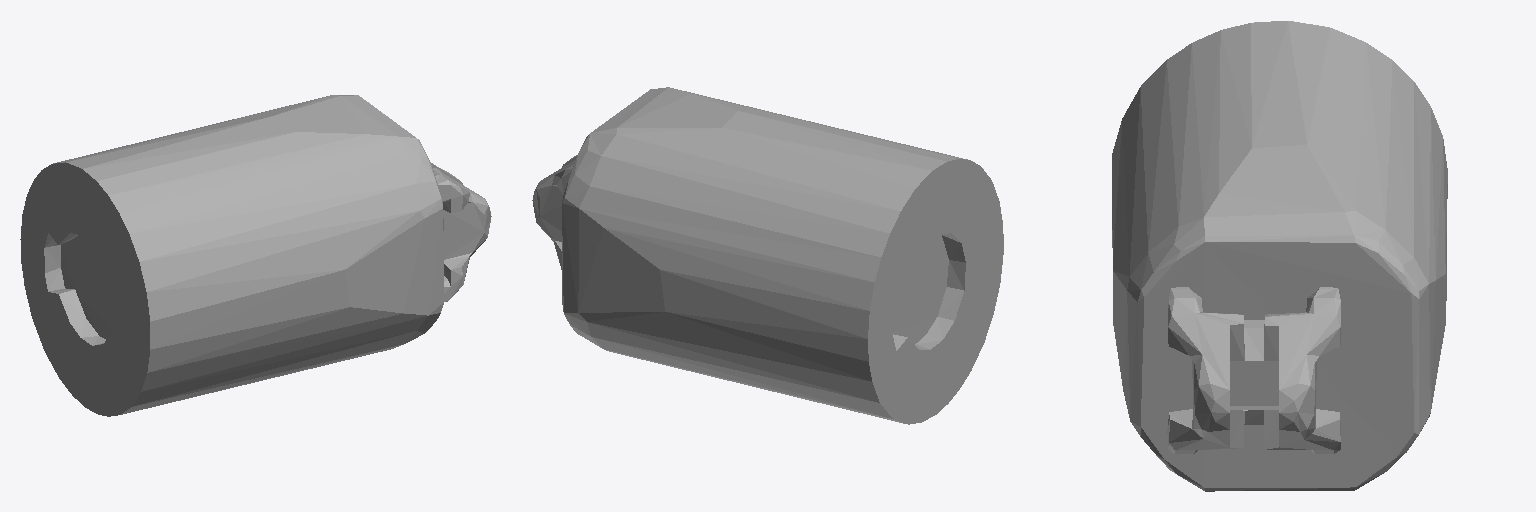
--- Facts derived from the render (not from the file) ---
3 views of the same robot in one strip: view 1: azimuth 30°, elevation 25°; view 2: azimuth 150°, elevation 25°; view 3: azimuth 270°, elevation 25° (orthographic).
Robot: ur10srh — 43 links, 42 joints (30 revolute, 12 fixed); root link world; default pose: all joints at 0.
Links seen in each view (by area): view 1: ra_forearm_link; view 2: ra_forearm_link; view 3: ra_forearm_link.
Link boxes in pixels (x1=…): ra_forearm_link: x1=20, y1=95, x2=491, y2=416; ra_forearm_link: x1=532, y1=87, x2=1003, y2=424; ra_forearm_link: x1=1112, y1=21, x2=1447, y2=491.
Bounding box of the posed robot: 2.28 × 1.35 × 1.35 m (x, y, z).
Meshes: 19 distinct files referenced, 25 mesh visuals loaded (1 binary STL, 11 Collada DAE); not drawn: 6 (reference not matched to a file when rendering).

The robot description file, URDF, robot "ur10srh":
<?xml version="1.0" ?>
<!-- =================================================================================== -->
<!-- |    This document was autogenerated by xacro from [local-path]/shadow/src/sr_interface/sr_multi_description/urdf/right_srhand_ur10.urdf.xacro | -->
<!-- |    EDITING THIS FILE BY HAND IS NOT RECOMMENDED                                 | -->
<!-- =================================================================================== -->
<robot name="ur10srh" xmlns:body="http://playerstage.sourceforge.net/gazebo/xmlschema/#body" xmlns:controller="http://playerstage.sourceforge.net/gazebo/xmlschema/#controller" xmlns:geom="http://playerstage.sourceforge.net/gazebo/xmlschema/#geom" xmlns:interface="http://playerstage.sourceforge.net/gazebo/xmlschema/#interface" xmlns:joint="http://playerstage.sourceforge.net/gazebo/xmlschema/#slider" xmlns:sensor="http://playerstage.sourceforge.net/gazebo/xmlschema/#sensor">
  <link name="world"/>
  <joint name="world_joint" type="fixed">
    <parent link="world"/>
    <child link="ra_base_link"/>
    <origin rpy="0.0 0.0 0.0" xyz="0.0 0.0 0.1"/>
  </joint>
  <link name="ra_base_link">
    <visual>
      <origin rpy="0 0 3.14159265359" xyz="0 0 0"/>
      <geometry>
        <mesh filename="package://ur_description/meshes/ur10/visual/base.dae"/>
      </geometry>
      <material name="LightGrey">
        <color rgba="0.7 0.7 0.7 1.0"/>
      </material>
    </visual>
    <collision>
      <origin rpy="0 0 3.14159265359" xyz="0 0 0"/>
      <geometry>
        <mesh filename="package://ur_description/meshes/ur10/collision/base.stl"/>
      </geometry>
    </collision>
    <inertial>
      <mass value="4.0"/>
      <origin rpy="0 0 0" xyz="0.0 0.0 0.0"/>
      <inertia ixx="0.0061063308908" ixy="0.0" ixz="0.0" iyy="0.0061063308908" iyz="0.0" izz="0.01125"/>
    </inertial>
  </link>
  <joint name="ra_shoulder_pan_joint" type="revolute">
    <parent link="ra_base_link"/>
    <child link="ra_shoulder_link"/>
    <origin rpy="0 0 3.14159265359" xyz="0 0 0.1273"/>
    <axis xyz="0 0 1"/>
    <limit effort="330.0" lower="-6.28318530718" upper="6.28318530718" velocity="2.16"/>
    <dynamics damping="0.0" friction="0.0"/>
  </joint>
  <link name="ra_shoulder_link">
    <visual>
      <origin rpy="0 0 3.14159265359" xyz="0 0 0"/>
      <geometry>
        <mesh filename="package://ur_description/meshes/ur10/visual/shoulder.dae"/>
      </geometry>
      <material name="LightGrey">
        <color rgba="0.7 0.7 0.7 1.0"/>
      </material>
    </visual>
    <collision>
      <origin rpy="0 0 3.14159265359" xyz="0 0 0"/>
      <geometry>
        <mesh filename="package://ur_description/meshes/ur10/collision/shoulder.stl"/>
      </geometry>
    </collision>
    <inertial>
      <mass value="7.778"/>
      <origin rpy="0 0 0" xyz="0.0 0.0 0.0"/>
      <inertia ixx="0.0314743125769" ixy="0.0" ixz="0.0" iyy="0.0314743125769" iyz="0.0" izz="0.021875625"/>
    </inertial>
  </link>
  <joint name="ra_shoulder_lift_joint" type="revolute">
    <parent link="ra_shoulder_link"/>
    <child link="ra_upper_arm_link"/>
    <origin rpy="1.570796327 0 0" xyz="0 0 0"/>
    <axis xyz="0 0 1"/>
    <limit effort="330.0" lower="-6.28318530718" upper="6.28318530718" velocity="2.16"/>
    <dynamics damping="0.0" friction="0.0"/>
  </joint>
  <link name="ra_upper_arm_link">
    <visual>
      <origin rpy="1.57079632679 0 -1.57079632679" xyz="0 0 0.220941"/>
      <geometry>
        <mesh filename="package://ur_description/meshes/ur10/visual/upperarm.dae"/>
      </geometry>
      <material name="LightGrey">
        <color rgba="0.7 0.7 0.7 1.0"/>
      </material>
    </visual>
    <collision>
      <origin rpy="1.57079632679 0 -1.57079632679" xyz="0 0 0.220941"/>
      <geometry>
        <mesh filename="package://ur_description/meshes/ur10/collision/upperarm.stl"/>
      </geometry>
    </collision>
    <inertial>
      <mass value="12.93"/>
      <origin rpy="0 1.57079632679 0" xyz="-0.306 0.0 0.175"/>
      <inertia ixx="0.421753803798" ixy="0.0" ixz="0.0" iyy="0.421753803798" iyz="0.0" izz="0.036365625"/>
    </inertial>
  </link>
  <joint name="ra_elbow_joint" type="revolute">
    <parent link="ra_upper_arm_link"/>
    <child link="ra_forearm_link"/>
    <origin rpy="0 0 0" xyz="-0.612 0 0"/>
    <axis xyz="0 0 1"/>
    <limit effort="150.0" lower="-3.14159265359" upper="3.14159265359" velocity="3.15"/>
    <dynamics damping="0.0" friction="0.0"/>
  </joint>
  <link name="ra_forearm_link">
    <visual>
      <origin rpy="1.57079632679 0 -1.57079632679" xyz="0 0 0.049042"/>
      <geometry>
        <mesh filename="package://ur_description/meshes/ur10/visual/forearm.dae"/>
      </geometry>
      <material name="LightGrey">
        <color rgba="0.7 0.7 0.7 1.0"/>
      </material>
    </visual>
    <collision>
      <origin rpy="1.57079632679 0 -1.57079632679" xyz="0 0 0.049042"/>
      <geometry>
        <mesh filename="package://ur_description/meshes/ur10/collision/forearm.stl"/>
      </geometry>
    </collision>
    <inertial>
      <mass value="3.87"/>
      <origin rpy="0 1.57079632679 0" xyz="-0.306 0.0 0.049042"/>
      <inertia ixx="0.111069694097" ixy="0.0" ixz="0.0" iyy="0.111069694097" iyz="0.0" izz="0.010884375"/>
    </inertial>
  </link>
  <joint name="ra_wrist_1_joint" type="revolute">
    <parent link="ra_forearm_link"/>
    <child link="ra_wrist_1_link"/>
    <origin rpy="0 0 0" xyz="-0.5723 0 0.163941"/>
    <axis xyz="0 0 1"/>
    <limit effort="54.0" lower="-6.28318530718" upper="6.28318530718" velocity="3.2"/>
    <dynamics damping="0.0" friction="0.0"/>
  </joint>
  <link name="ra_wrist_1_link">
    <visual>
      <origin rpy="1.57079632679 0 0" xyz="0 0 -0.1149"/>
      <geometry>
        <mesh filename="package://ur_description/meshes/ur10/visual/wrist1.dae"/>
      </geometry>
      <material name="LightGrey">
        <color rgba="0.7 0.7 0.7 1.0"/>
      </material>
    </visual>
    <collision>
      <origin rpy="1.57079632679 0 0" xyz="0 0 -0.1149"/>
      <geometry>
        <mesh filename="package://ur_description/meshes/ur10/collision/wrist1.stl"/>
      </geometry>
    </collision>
    <inertial>
      <mass value="1.96"/>
      <origin rpy="0 0 0" xyz="0.0 0.0 0.0"/>
      <inertia ixx="0.00494270805625" ixy="0.0" ixz="0.0" iyy="0.00494270805625" iyz="0.0" izz="0.0055125"/>
    </inertial>
  </link>
  <joint name="ra_wrist_2_joint" type="revolute">
    <parent link="ra_wrist_1_link"/>
    <child link="ra_wrist_2_link"/>
    <origin rpy="1.570796327 0 0" xyz="0 -0.1157 -2.37304666792e-11"/>
    <axis xyz="0 0 1"/>
    <limit effort="54.0" lower="-6.28318530718" upper="6.28318530718" velocity="3.2"/>
    <dynamics damping="0.0" friction="0.0"/>
  </joint>
  <link name="ra_wrist_2_link">
    <visual>
      <origin rpy="0 0 0" xyz="0 0 -0.1158"/>
      <geometry>
        <mesh filename="package://ur_description/meshes/ur10/visual/wrist2.dae"/>
      </geometry>
      <material name="LightGrey">
        <color rgba="0.7 0.7 0.7 1.0"/>
      </material>
    </visual>
    <collision>
      <origin rpy="0 0 0" xyz="0 0 -0.1158"/>
      <geometry>
        <mesh filename="package://ur_description/meshes/ur10/collision/wrist2.stl"/>
      </geometry>
    </collision>
    <inertial>
      <mass value="1.96"/>
      <origin rpy="0 0 0" xyz="0.0 0.0 0.0"/>
      <inertia ixx="0.00414471887545" ixy="0.0" ixz="0.0" iyy="0.00414471887545" iyz="0.0" izz="0.0055125"/>
    </inertial>
  </link>
  <joint name="ra_wrist_3_joint" type="revolute">
    <parent link="ra_wrist_2_link"/>
    <child link="ra_wrist_3_link"/>
    <origin rpy="1.57079632659 3.14159265359 3.14159265359" xyz="0 0.0922 -1.89105361091e-11"/>
    <axis xyz="0 0 1"/>
    <limit effort="54.0" lower="-6.28318530718" upper="6.28318530718" velocity="3.2"/>
    <dynamics damping="0.0" friction="0.0"/>
  </joint>
  <link name="ra_wrist_3_link">
    <visual>
      <origin rpy="1.57079632679 0 0" xyz="0 0 -0.0922"/>
      <geometry>
        <mesh filename="package://ur_description/meshes/ur10/visual/wrist3.dae"/>
      </geometry>
      <material name="LightGrey">
        <color rgba="0.7 0.7 0.7 1.0"/>
      </material>
    </visual>
    <collision>
      <origin rpy="1.57079632679 0 0" xyz="0 0 -0.0922"/>
      <geometry>
        <mesh filename="package://ur_description/meshes/ur10/collision/wrist3.stl"/>
      </geometry>
    </collision>
    <inertial>
      <mass value="0.202"/>
      <origin rpy="0 0 0" xyz="0.0 0.0 -0.01525"/>
      <inertia ixx="0.000117921661165" ixy="0.0" ixz="0.0" iyy="0.000117921661165" iyz="0.0" izz="0.000204525"/>
    </inertial>
  </link>
  <joint name="ra_ee_fixed_joint" type="fixed">
    <parent link="ra_wrist_3_link"/>
    <child link="ra_flange"/>
    <origin rpy="0.0 -1.57079632679 1.57079632679" xyz="0.0 0.0 0.0"/>
  </joint>
  <link name="ra_flange">
    <collision>
      <geometry>
        <box size="0.01 0.01 0.01"/>
      </geometry>
      <origin rpy="0 0 0" xyz="-0.01 0 0"/>
    </collision>
  </link>
  <joint name="ra_wrist_3_passive_joint" type="fixed">
    <origin rpy="0 0 0" xyz="0 0 0"/>
    <parent link="ra_wrist_3_link"/>
    <child link="ra_tool0"/>
  </joint>
  <transmission name="ra_shoulder_pan_trans">
    <type>transmission_interface/SimpleTransmission</type>
    <joint name="ra_shoulder_pan_joint">
      <hardwareInterface>hardware_interface/PositionJointInterface</hardwareInterface>
    </joint>
    <actuator name="ra_shoulder_pan_motor">
      <mechanicalReduction>1</mechanicalReduction>
    </actuator>
  </transmission>
  <transmission name="ra_shoulder_lift_trans">
    <type>transmission_interface/SimpleTransmission</type>
    <joint name="ra_shoulder_lift_joint">
      <hardwareInterface>hardware_interface/PositionJointInterface</hardwareInterface>
    </joint>
    <actuator name="ra_shoulder_lift_motor">
      <mechanicalReduction>1</mechanicalReduction>
    </actuator>
  </transmission>
  <transmission name="ra_elbow_trans">
    <type>transmission_interface/SimpleTransmission</type>
    <joint name="ra_elbow_joint">
      <hardwareInterface>hardware_interface/PositionJointInterface</hardwareInterface>
    </joint>
    <actuator name="ra_elbow_motor">
      <mechanicalReduction>1</mechanicalReduction>
    </actuator>
  </transmission>
  <transmission name="ra_wrist_1_trans">
    <type>transmission_interface/SimpleTransmission</type>
    <joint name="ra_wrist_1_joint">
      <hardwareInterface>hardware_interface/PositionJointInterface</hardwareInterface>
    </joint>
    <actuator name="ra_wrist_1_motor">
      <mechanicalReduction>1</mechanicalReduction>
    </actuator>
  </transmission>
  <transmission name="ra_wrist_2_trans">
    <type>transmission_interface/SimpleTransmission</type>
    <joint name="ra_wrist_2_joint">
      <hardwareInterface>hardware_interface/PositionJointInterface</hardwareInterface>
    </joint>
    <actuator name="ra_wrist_2_motor">
      <mechanicalReduction>1</mechanicalReduction>
    </actuator>
  </transmission>
  <transmission name="ra_wrist_3_trans">
    <type>transmission_interface/SimpleTransmission</type>
    <joint name="ra_wrist_3_joint">
      <hardwareInterface>hardware_interface/PositionJointInterface</hardwareInterface>
    </joint>
    <actuator name="ra_wrist_3_motor">
      <mechanicalReduction>1</mechanicalReduction>
    </actuator>
  </transmission>
  <gazebo reference="ra_shoulder_link">
    <selfCollide>true</selfCollide>
  </gazebo>
  <gazebo reference="ra_upper_arm_link">
    <selfCollide>true</selfCollide>
  </gazebo>
  <gazebo reference="ra_forearm_link">
    <selfCollide>true</selfCollide>
  </gazebo>
  <gazebo reference="ra_wrist_1_link">
    <selfCollide>true</selfCollide>
  </gazebo>
  <gazebo reference="ra_wrist_3_link">
    <selfCollide>true</selfCollide>
  </gazebo>
  <gazebo reference="ra_wrist_2_link">
    <selfCollide>true</selfCollide>
  </gazebo>
  <gazebo reference="ra_flange">
    <selfCollide>true</selfCollide>
  </gazebo>
  <link name="ra_base"/>
  <joint name="ra_base_link-base_fixed_joint" type="fixed">
    <origin rpy="0 0 -3.14159265359" xyz="0 0 0"/>
    <parent link="ra_base_link"/>
    <child link="ra_base"/>
  </joint>
  <link name="ra_tool0"/>
  <material name="Blue">
    <color rgba="0.0 0.0 0.8 1.0"/>
  </material>
  <material name="Green">
    <color rgba="0.0 0.8 0.0 1.0"/>
  </material>
  <material name="BiotacGreen">
    <color rgba="0.31 0.85 0.42 1.0"/>
  </material>
  <material name="Grey">
    <color rgba="0.2 0.2 0.2 1.0"/>
  </material>
  <material name="LightGrey">
    <color rgba="0.6 0.6 0.6 1.0"/>
  </material>
  <material name="Red">
    <color rgba="0.8 0.0 0.0 1.0"/>
  </material>
  <material name="White">
    <color rgba="1.0 1.0 1.0 1.0"/>
  </material>
  <gazebo>
    <plugin filename="libgazebo_ros_control.so" name="gazebo_ros_control">
      <robotSimType>sr_gazebo_sim/SrGazeboHWSim</robotSimType>
    </plugin>
  </gazebo>
  <link name="rh_forearm">
    <inertial>
      <origin rpy="0 0 0" xyz="0 0 0.09"/>
      <mass value="3.0"/>
      <inertia ixx="0.0138" ixy="0.0" ixz="0.0" iyy="0.0138" iyz="0.0" izz="0.00744"/>
    </inertial>
    <visual>
      <origin rpy="0 0 0" xyz="0 0 0"/>
      <geometry name="rh_forearm_visual">
        <mesh filename="package://sr_description/meshes/hand/forearm.dae" scale="0.001 0.001 0.001"/>
      </geometry>
      <material name="light_grey"/>
    </visual>
    <collision>
      <origin rpy="0 0 0" xyz="0 0 0.092"/>
      <geometry name="rh_forearm_collision">
        <cylinder length="0.184" radius="0.07"/>
      </geometry>
      <material name="dark_grey">
        <color rgba="0.21961 0.21961 0.21961 1.0"/>
      </material>
    </collision>
    <collision>
      <origin rpy="0 0.78 0" xyz="0 -0.01 0.181"/>
      <geometry>
        <box size="0.07 0.07 0.07"/>
      </geometry>
    </collision>
    <visual>
      <origin rpy="0 -1.57 -1.57" xyz="0.0 0.067 0.0045"/>
      <geometry name="rh_cable_extr_visualisation">
        <mesh filename="package://sr_description/meshes/hand/cable_collision_mesh.stl" scale="1 1 1"/>
      </geometry>
    </visual>
    <collision>
      <origin rpy="0 -1.57 -1.57" xyz="0.0 0.067 0.0045"/>
      <geometry name="rh_cable_extr_collision">
        <mesh filename="package://sr_description/meshes/hand/cable_collision_mesh.stl" scale="1 1 1"/>
      </geometry>
    </collision>
  </link>
  <gazebo reference="rh_forearm">
    <selfCollide>false</selfCollide>
  </gazebo>
  <link name="rh_wrist">
    <inertial>
      <origin rpy="0 0 0" xyz="0 0 0.029"/>
      <mass value="0.1"/>
      <inertia ixx="0.000035" ixy="0.0" ixz="0.0" iyy="0.000064" iyz="0.0" izz="0.0000438"/>
    </inertial>
    <visual>
      <origin rpy="0 0 0" xyz="0 0 0"/>
      <geometry name="rh_wrist_visual">
        <mesh filename="package://sr_description/meshes/hand/wrist.dae" scale="0.001 0.001 0.001"/>
      </geometry>
      <material name="LightGrey"/>
    </visual>
    <collision>
      <origin rpy="1.5708 1.5708 0" xyz="0 0 0"/>
      <geometry name="rh_wrist_collision_geom">
        <cylinder length="0.030" radius="0.0135"/>
      </geometry>
    </collision>
    <collision>
      <origin rpy="0 1.5708 0" xyz="-0.026 0 0.034"/>
      <geometry>
        <cylinder length="0.010" radius="0.011"/>
      </geometry>
    </collision>
    <collision>
      <origin rpy="0 1.5708 0" xyz="0.031 0 0.034"/>
      <geometry>
        <cylinder length="0.010" radius="0.011"/>
      </geometry>
    </collision>
    <collision>
      <origin rpy="0 0.7854 0" xyz="-0.021 0 0.011"/>
      <geometry>
        <box size="0.027 0.018 0.010"/>
      </geometry>
    </collision>
    <collision>
      <origin rpy="0 -0.7854 0" xyz="0.026 0 0.010"/>
      <geometry>
        <box size="0.027 0.018 0.010"/>
      </geometry>
    </collision>
  </link>
  <gazebo reference="rh_wrist">
    <material>Gazebo/White</material>
    <selfCollide>false</selfCollide>
  </gazebo>
  <joint name="rh_WRJ2" type="revolute">
    <parent link="rh_forearm"/>
    <child link="rh_wrist"/>
    <origin rpy="0 0 0" xyz="0 -0.010 0.213"/>
    <axis xyz="0 1.0 0"/>
    <limit effort="10" lower="-0.523598775598" upper="0.174532925199" velocity="2.0"/>
    <dynamics damping="0.1"/>
  </joint>
  <gazebo reference="rh_WRJ2">
    <provideFeedback>1</provideFeedback>
    <implicitSpringDamper>1</implicitSpringDamper>
  </gazebo>
  <transmission name="rh_wrist_transmission">
    <type>sr_mechanism_model/SimpleTransmission</type>
    <actuator name="rh_WRJ2">
      <mechanicalReduction>1</mechanicalReduction>
    </actuator>
    <joint name="rh_WRJ2">
      <hardwareInterface>hardware_interface/EffortJointInterface</hardwareInterface>
    </joint>
  </transmission>
  <link name="rh_palm">
    <inertial>
      <origin rpy="0 0 0" xyz="0 0 0.035"/>
      <mass value="0.3"/>
      <inertia ixx="0.0003581" ixy="0.0" ixz="0.0" iyy="0.0005287" iyz="0.0" izz="0.000191"/>
    </inertial>
    <visual>
      <origin rpy="0 0 0" xyz="0 0 0"/>
      <geometry name="rh_palm_visual">
        <mesh filename="package://sr_description/meshes/hand/palm.dae" scale="0.001 0.001 0.001"/>
      </geometry>
      <material name="Grey"/>
    </visual>
    <collision>
      <origin rpy="0 0 0" xyz="0.011 0.0085 0.038"/>
      <geometry name="rh_palm_collision_geom">
        <box size="0.062 0.007 0.098"/>
      </geometry>
    </collision>
    <collision>
      <origin rpy="0 0 0" xyz="-0.002 -0.0035 0.038"/>
      <geometry>
        <box size="0.036 0.017 0.098"/>
      </geometry>
    </collision>
    <collision>
      <origin rpy="0 0 0" xyz="0.029 -0.0035 0.082"/>
      <geometry>
        <box size="0.026 0.017 0.010"/>
      </geometry>
    </collision>
    <collision>
      <origin rpy="0.2 0 0.25" xyz="0.0265 -0.001 0.070"/>
      <geometry>
        <box size="0.026 0.014 0.018"/>
      </geometry>
    </collision>
    <collision>
      <origin rpy="0 0 0" xyz="0.0315 -0.0085 0.001"/>
      <geometry>
        <box size="0.021 0.027 0.024"/>
      </geometry>
    </collision>
    <collision>
      <origin rpy="0 0 -0.48" xyz="0.0125 -0.015 0.009"/>
      <geometry>
        <box size="0.022 0.005 0.040"/>
      </geometry>
    </collision>
    <collision>
      <origin rpy="0 0 0" xyz="0.011 0 0.089"/>
      <geometry>
        <box size="0.018 0.024 0.004"/>
      </geometry>
    </collision>
    <collision>
      <origin rpy="0 0 0" xyz="-0.03 0 0.009"/>
      <geometry>
        <box size="0.020 0.024 0.040"/>
      </geometry>
    </collision>
  </link>
  <joint name="rh_ee_fixed_joint" type="fixed">
    <parent link="rh_palm"/>
    <child link="rh_manipulator"/>
    <origin rpy="0.0 0.0 0.0" xyz="0.0 0.0 0.05"/>
  </joint>
  <link name="rh_manipulator"/>
  <joint name="rh_WRJ1" type="revolute">
    <parent link="rh_wrist"/>
    <child link="rh_palm"/>
    <origin rpy="0 0 0" xyz="0 0 0.034"/>
    <axis xyz="1 0 0"/>
    <limit effort="30" lower="-0.698131700798" upper="0.488692190558" velocity="2.0"/>
    <dynamics damping="0.1"/>
  </joint>
  <gazebo reference="rh_WRJ1">
    <provideFeedback>1</provideFeedback>
    <implicitSpringDamper>1</implicitSpringDamper>
  </gazebo>
  <link name="rh_imu"/>
  <joint name="rh_palm_to_imu" type="fixed">
    <parent link="rh_palm"/>
    <child link="rh_imu"/>
    <origin rpy="-1.5707963 3.141592 0.0" xyz="0.01785 0.00765 0.049125"/>
  </joint>
  <sensor name="rh_imu" update_rate="100">
    <parent link="rh_imu"/>
    <origin rpy="0 0 0" xyz="0 0 0"/>
  </sensor>
  <transmission name="rh_palm_transmission">
    <type>sr_mechanism_model/SimpleTransmission</type>
    <actuator name="rh_WRJ1">
      <mechanicalReduction>1</mechanicalReduction>
    </actuator>
    <joint name="rh_WRJ1">
      <hardwareInterface>hardware_interface/EffortJointInterface</hardwareInterface>
    </joint>
  </transmission>
  <gazebo reference="rh_palm">
    <sensor name="rh_palm_contact" type="contact">
      <always_on>1</always_on>
      <update_rate>1000.0</update_rate>
      <contact>
        <collision>rh_palm_collision</collision>
        <topic>rh_palm_collision</topic>
      </contact>
      <plugin filename="libgazebo_ros_bumper.so" name="rh_palm_gazebo_ros_bumper_controller">
        <alwaysOn>true</alwaysOn>
        <frameName>rh_palm</frameName>
        <updateRate>100.0</updateRate>
        <bumperTopicName>contacts/rh_palm</bumperTopicName>
      </plugin>
    </sensor>
  </gazebo>
  <link name="rh_ffknuckle">
    <inertial>
      <origin rpy="0 0 0" xyz="0 0 0"/>
      <mass value="0.008"/>
      <inertia ixx="0.00000026" ixy="0.0" ixz="0.0" iyy="0.00000026" iyz="0.0" izz="0.00000032"/>
    </inertial>
    <visual>
      <origin rpy="0 0 0" xyz="0 0 0.0005"/>
      <geometry name="rh_ffknuckle_visual">
        <mesh filename="package://sr_description/meshes/hand/knuckle.dae" scale="0.001 0.001 0.001"/>
      </geometry>
      <material name="LightGrey"/>
    </visual>
    <collision>
      <origin rpy="0 1.5708 0" xyz="0 0 0"/>
      <geometry name="rh_ffknuckle_collision_geom">
        <cylinder length="0.014" radius="0.007"/>
      </geometry>
    </collision>
  </link>
  <joint name="rh_FFJ4" type="revolute">
    <parent link="rh_palm"/>
    <child link="rh_ffknuckle"/>
    <origin rpy="0 0 0" xyz="0.033 0 0.095"/>
    <axis xyz="0 -1.0 0"/>
    <limit effort="4" lower="-0.349065850399" upper="0.349065850399" velocity="2.0"/>
    <dynamics damping="0.1"/>
  </joint>
  <gazebo reference="rh_FFJ4">
    <provideFeedback>1</provideFeedback>
    <implicitSpringDamper>1</implicitSpringDamper>
  </gazebo>
  <transmission name="rh_ffknuckle_transmission">
    <type>sr_mechanism_model/SimpleTransmission</type>
    <actuator name="rh_FFJ4">
      <mechanicalReduction>1</mechanicalReduction>
    </actuator>
    <joint name="rh_FFJ4">
      <hardwareInterface>hardware_interface/EffortJointInterface</hardwareInterface>
    </joint>
  </transmission>
  <gazebo reference="rh_ffknuckle">
    <sensor name="rh_ffknuckle_contact" type="contact">
      <always_on>1</always_on>
      <update_rate>1000.0</update_rate>
      <contact>
        <collision>rh_ffknuckle_collision</collision>
        <topic>rh_ffknuckle_collision</topic>
      </contact>
      <plugin filename="libgazebo_ros_bumper.so" name="rh_ffknuckle_gazebo_ros_bumper_controller">
        <alwaysOn>true</alwaysOn>
        <frameName>rh_ffknuckle</frameName>
        <updateRate>100.0</updateRate>
        <bumperTopicName>contacts/rh_ff/knuckle</bumperTopicName>
      </plugin>
    </sensor>
    <material>Gazebo/Grey</material>
  </gazebo>
  <link name="rh_ffproximal">
    <inertial>
      <mass value="0.030"/>
      <origin xyz="0 0 0.0225"/>
      <inertia ixx="0.0000098" ixy="0.0" ixz="0.0" iyy="0.00001" iyz="0.0" izz="0.0000018"/>
    </inertial>
    <visual>
      <origin rpy="0 0 0" xyz="0 0 0"/>
      <geometry name="rh_ffproximal_visual">
        <mesh filename="package://sr_description/meshes/hand/F3.dae" scale="0.001 0.001 0.001"/>
      </geometry>
      <material name="Grey"/>
    </visual>
    <collision>
      <origin rpy="0 0 0" xyz="0 0 0.025"/>
      <geometry name="rh_ffproximal_collision_geom">
        <cylinder length="0.040" radius="0.007"/>
      </geometry>
    </collision>
  </link>
  <joint name="rh_FFJ3" type="revolute">
    <parent link="rh_ffknuckle"/>
    <child link="rh_ffproximal"/>
    <origin rpy="0 0 0" xyz="0 0 0"/>
    <axis xyz="1 0 0"/>
    <limit effort="4" lower="-0.261799387799" upper="1.57079632679" velocity="2.0"/>
    <dynamics damping="0.1"/>
  </joint>
  <gazebo reference="rh_FFJ3">
    <provideFeedback>1</provideFeedback>
    <implicitSpringDamper>1</implicitSpringDamper>
  </gazebo>
  <transmission name="rh_ffproximal_transmission">
    <type>sr_mechanism_model/SimpleTransmission</type>
    <actuator name="rh_FFJ3">
      <mechanicalReduction>1</mechanicalReduction>
    </actuator>
    <joint name="rh_FFJ3">
      <hardwareInterface>hardware_interface/EffortJointInterface</hardwareInterface>
    </joint>
  </transmission>
  <gazebo reference="rh_ffproximal">
    <sensor name="rh_ffproximal_contact" type="contact">
      <always_on>1</always_on>
      <update_rate>1000.0</update_rate>
      <contact>
        <collision>rh_ffproximal_collision</collision>
        <topic>rh_ffproximal_collision</topic>
      </contact>
      <plugin filename="libgazebo_ros_bumper.so" name="rh_ffproximal_gazebo_ros_bumper_controller">
        <alwaysOn>true</alwaysOn>
        <frameName>rh_ffproximal</frameName>
        <updateRate>100.0</updateRate>
        <bumperTopicName>contacts/rh_ff/proximal</bumperTopicName>
      </plugin>
    </sensor>
    <selfCollide>true</selfCollide>
  </gazebo>
  <link name="rh_ffmiddle">
    <inertial>
      <origin rpy="0 0 0" xyz="0 0 0.0125"/>
      <mass value="0.017"/>
      <inertia ixx="0.0000026" ixy="0.0" ixz="0.0" iyy="0.0000027" iyz="0.0" izz="0.00000087"/>
    </inertial>
    <visual>
      <origin rpy="0 0 0" xyz="0 0 0"/>
      <geometry name="rh_ffmiddle_visual">
        <mesh filename="package://sr_description/meshes/hand/F2.dae" scale="0.001 0.001 0.001"/>
      </geometry>
      <material name="Grey"/>
    </visual>
    <collision>
      <origin rpy="0 0 0" xyz="0 0 0.0125"/>
      <geometry name="rh_ffmiddle_collision_geom">
        <cylinder length="0.025" radius="0.007"/>
      </geometry>
    </collision>
    <collision>
      <origin rpy="0 0 0" xyz="0 0 0.0"/>
      <geometry>
        <sphere radius="0.007"/>
      </geometry>
    </collision>
    <collision>
      <origin rpy="0 0 0" xyz="0 0 0.025"/>
      <geometry>
        <sphere radius="0.007"/>
      </geometry>
    </collision>
  </link>
  <joint name="rh_FFJ2" type="revolute">
    <parent link="rh_ffproximal"/>
    <child link="rh_ffmiddle"/>
    <origin rpy="0 0 0" xyz="0 0 0.045"/>
    <axis xyz="1 0 0"/>
    <limit effort="4" lower="0" upper="1.57079632679" velocity="2.0"/>
    <dynamics damping="0.1"/>
  </joint>
  <gazebo reference="rh_FFJ2">
    <provideFeedback>1</provideFeedback>
    <implicitSpringDamper>1</implicitSpringDamper>
  </gazebo>
  <transmission name="rh_ffmiddle_transmission">
    <type>sr_mechanism_model/SimpleTransmission</type>
    <actuator name="rh_FFJ2">
      <mechanicalReduction>1</mechanicalReduction>
    </actuator>
    <joint name="rh_FFJ2">
      <hardwareInterface>hardware_interface/EffortJointInterface</hardwareInterface>
    </joint>
    <!-- secondJoint name="rh_FFJ2"/ -->
  </transmission >
  <gazebo reference="rh_ffmiddle">
    <sensor name="rh_ffmiddle_contact" type="contact">
      <always_on>1</always_on>
      <update_rate>1000.0</update_rate>
      <contact>
        <collision>rh_ffmiddle_collision</collision>
        <topic>rh_ffmiddle_collision</topic>
      </contact>
      <plugin filename="libgazebo_ros_bumper.so" name="rh_ffproximal_gazebo_ros_bumper_controller">
        <alwaysOn>true</alwaysOn>
        <frameName>rh_ffmiddle</frameName>
        <updateRate>100.0</updateRate>
        <bumperTopicName>contacts/rh_ff/middle</bumperTopicName>
      </plugin>
    </sensor>
    <selfCollide>true</selfCollide>
  </gazebo>
  <link name="rh_ffdistal">
    <inertial>
      <mass value="0.012"/>
      <origin xyz="0 0 0.012"/>
      <inertia ixx="0.00000094" ixy="0.0" ixz="0.0" iyy="0.0000011" iyz="0.0" izz="0.00000053"/>
    </inertial>
    <visual>
      <origin rpy="0 0 0" xyz="0 0 0"/>
      <geometry name="rh_ffdistal_visual">
        <mesh filename="package://sr_description/meshes/hand/F1.dae" scale="0.001 0.001 0.001"/>
      </geometry>
    </visual>
    <collision>
      <origin rpy="0 0 0" xyz="0 0 0"/>
      <geometry name="rh_ffdistal_collision_geom">
        <mesh filename="package://sr_description/meshes/hand/F1.dae" scale="0.001 0.001 0.001"/>
      </geometry>
    </collision>
  </link>
  <joint name="rh_FFJ1" type="revolute">
    <parent link="rh_ffmiddle"/>
    <child link="rh_ffdistal"/>
    <origin rpy="0 0 0" xyz="0 0 0.025"/>
    <axis xyz="1 0 0"/>
    <limit effort="4" lower="0" upper="1.57079632679" velocity="2.0"/>
    <dynamics damping="0.1"/>
  </joint>
  <gazebo reference="rh_FFJ1">
    <provideFeedback>1</provideFeedback>
    <implicitSpringDamper>1</implicitSpringDamper>
  </gazebo>
  <link name="rh_fftip">
    <inertial>
      <mass value="0.001"/>
      <inertia ixx="0.0" ixy="0.0" ixz="0.0" iyy="0.0" iyz="0.0" izz="0.0"/>
    </inertial>
  </link>
  <joint name="rh_FFtip" type="fixed">
    <parent link="rh_ffdistal"/>
    <child link="rh_fftip"/>
    <origin rpy="0 0 0" xyz="0 0 0.026"/>
  </joint>
  <transmission name="rh_ffdistal_transmission">
    <type>sr_mechanism_model/SimpleTransmission</type>
    <actuator name="rh_FFJ1">
      <mechanicalReduction>1</mechanicalReduction>
    </actuator>
    <joint name="rh_FFJ1">
      <hardwareInterface>hardware_interface/EffortJointInterface</hardwareInterface>
    </joint>
  </transmission>
  <gazebo reference="rh_ffdistal">
    <sensor name="rh_ffdistal_contact" type="contact">
      <always_on>1</always_on>
      <update_rate>1000.0</update_rate>
      <contact>
        <collision>rh_ffdistal_collision</collision>
        <topic>rh_ffdistal_collision</topic>
      </contact>
      <plugin filename="libgazebo_ros_bumper.so" name="rh_ffdistal_gazebo_ros_bumper_controller">
        <alwaysOn>true</alwaysOn>
        <frameName>rh_ffdistal</frameName>
        <updateRate>100.0</updateRate>
        <bumperTopicName>contacts/rh_ff/distal</bumperTopicName>
      </plugin>
    </sensor>
    <mu1 value="500.0"/>
    <mu2 value="500.0"/>
    <kp value="10000000.0"/>
    <kd value="1.0"/>
    <selfCollide>true</selfCollide>
  </gazebo>
  <link name="rh_mfknuckle">
    <inertial>
      <origin rpy="0 0 0" xyz="0 0 0"/>
      <mass value="0.008"/>
      <inertia ixx="0.00000026" ixy="0.0" ixz="0.0" iyy="0.00000026" iyz="0.0" izz="0.00000032"/>
    </inertial>
    <visual>
      <origin rpy="0 0 0" xyz="0 0 0.0005"/>
      <geometry name="rh_mfknuckle_visual">
        <mesh filename="package://sr_description/meshes/hand/knuckle.dae" scale="0.001 0.001 0.001"/>
      </geometry>
      <material name="LightGrey"/>
    </visual>
    <collision>
      <origin rpy="0 1.5708 0" xyz="0 0 0"/>
      <geometry name="rh_mfknuckle_collision_geom">
        <cylinder length="0.014" radius="0.007"/>
      </geometry>
    </collision>
  </link>
  <joint name="rh_MFJ4" type="revolute">
    <parent link="rh_palm"/>
    <child link="rh_mfknuckle"/>
    <origin rpy="0 0 0" xyz="0.011 0 0.099"/>
    <axis xyz="0 -1.0 0"/>
    <limit effort="2" lower="-0.349065850399" upper="0.349065850399" velocity="2.0"/>
    <dynamics damping="0.1"/>
  </joint>
  <gazebo reference="rh_MFJ4">
    <provideFeedback>1</provideFeedback>
    <implicitSpringDamper>1</implicitSpringDamper>
  </gazebo>
  <transmission name="rh_mfknuckle_transmission">
    <type>sr_mechanism_model/SimpleTransmission</type>
    <actuator name="rh_MFJ4">
      <mechanicalReduction>1</mechanicalReduction>
    </actuator>
    <joint name="rh_MFJ4">
      <hardwareInterface>hardware_interface/EffortJointInterface</hardwareInterface>
    </joint>
  </transmission>
  <gazebo reference="rh_mfknuckle">
    <sensor name="rh_mfknuckle_contact" type="contact">
      <always_on>1</always_on>
      <update_rate>1000.0</update_rate>
      <contact>
        <collision>rh_mfknuckle_collision</collision>
        <topic>rh_mfknuckle_collision</topic>
      </contact>
      <plugin filename="libgazebo_ros_bumper.so" name="rh_mfknuckle_gazebo_ros_bumper_controller">
        <alwaysOn>true</alwaysOn>
        <frameName>rh_mfknuckle</frameName>
        <updateRate>100.0</updateRate>
        <bumperTopicName>contacts/rh_mf/knuckle</bumperTopicName>
      </plugin>
    </sensor>
    <material>Gazebo/Grey</material>
  </gazebo>
  <link name="rh_mfproximal">
    <inertial>
      <mass value="0.030"/>
      <origin xyz="0 0 0.0225"/>
      <inertia ixx="0.0000098" ixy="0.0" ixz="0.0" iyy="0.00001" iyz="0.0" izz="0.0000018"/>
    </inertial>
    <visual>
      <origin rpy="0 0 0" xyz="0 0 0"/>
      <geometry name="rh_mfproximal_visual">
        <mesh filename="package://sr_description/meshes/hand/F3.dae" scale="0.001 0.001 0.001"/>
      </geometry>
      <material name="Grey"/>
    </visual>
    <collision>
      <origin rpy="0 0 0" xyz="0 0 0.025"/>
      <geometry name="rh_mfproximal_collision_geom">
        <cylinder length="0.040" radius="0.007"/>
      </geometry>
    </collision>
  </link>
  <joint name="rh_MFJ3" type="revolute">
    <parent link="rh_mfknuckle"/>
    <child link="rh_mfproximal"/>
    <origin rpy="0 0 0" xyz="0 0 0"/>
    <axis xyz="1 0 0"/>
    <limit effort="4" lower="-0.261799387799" upper="1.57079632679" velocity="2.0"/>
    <dynamics damping="0.1"/>
  </joint>
  <gazebo reference="rh_MFJ3">
    <provideFeedback>1</provideFeedback>
    <implicitSpringDamper>1</implicitSpringDamper>
  </gazebo>
  <transmission name="rh_mfproximal_transmission">
    <type>sr_mechanism_model/SimpleTransmission</type>
    <actuator name="rh_MFJ3">
      <mechanicalReduction>1</mechanicalReduction>
    </actuator>
    <joint name="rh_MFJ3">
      <hardwareInterface>hardware_interface/EffortJointInterface</hardwareInterface>
    </joint>
  </transmission>
  <gazebo reference="rh_mfproximal">
    <sensor name="rh_mfproximal_contact" type="contact">
      <always_on>1</always_on>
      <update_rate>1000.0</update_rate>
      <contact>
        <collision>rh_mfproximal_collision</collision>
        <topic>rh_mfproximal_collision</topic>
      </contact>
      <plugin filename="libgazebo_ros_bumper.so" name="rh_mfproximal_gazebo_ros_bumper_controller">
        <alwaysOn>true</alwaysOn>
        <frameName>rh_mfproximal</frameName>
        <updateRate>100.0</updateRate>
        <bumperTopicName>contacts/rh_mf/proximal</bumperTopicName>
      </plugin>
    </sensor>
    <selfCollide>true</selfCollide>
  </gazebo>
  <link name="rh_mfmiddle">
    <inertial>
      <origin rpy="0 0 0" xyz="0 0 0.0125"/>
      <mass value="0.017"/>
      <inertia ixx="0.0000026" ixy="0.0" ixz="0.0" iyy="0.0000027" iyz="0.0" izz="0.00000087"/>
    </inertial>
    <visual>
      <origin rpy="0 0 0" xyz="0 0 0"/>
      <geometry name="rh_mfmiddle_visual">
        <mesh filename="package://sr_description/meshes/hand/F2.dae" scale="0.001 0.001 0.001"/>
      </geometry>
      <material name="Grey"/>
    </visual>
    <collision>
      <origin rpy="0 0 0" xyz="0 0 0.0125"/>
      <geometry name="rh_mfmiddle_collision_geom">
        <cylinder length="0.025" radius="0.007"/>
      </geometry>
    </collision>
    <collision>
      <origin rpy="0 0 0" xyz="0 0 0.0"/>
      <geometry>
        <sphere radius="0.007"/>
      </geometry>
    </collision>
    <collision>
      <origin rpy="0 0 0" xyz="0 0 0.025"/>
      <geometry>
        <sphere radius="0.007"/>
      </geometry>
    </collision>
  </link>
  <joint name="rh_MFJ2" type="revolute">
    <parent link="rh_mfproximal"/>
    <child link="rh_mfmiddle"/>
    <origin rpy="0 0 0" xyz="0 0 0.045"/>
    <axis xyz="1 0 0"/>
    <limit effort="4" lower="0" upper="1.57079632679" velocity="2.0"/>
    <dynamics damping="0.1"/>
  </joint>
  <gazebo reference="rh_MFJ2">
    <provideFeedback>1</provideFeedback>
    <implicitSpringDamper>1</implicitSpringDamper>
  </gazebo>
  <transmission name="rh_mfmiddle_transmission">
    <type>sr_mechanism_model/SimpleTransmission</type>
    <actuator name="rh_MFJ2">
      <mechanicalReduction>1</mechanicalReduction>
    </actuator>
    <joint name="rh_MFJ2">
      <hardwareInterface>hardware_interface/EffortJointInterface</hardwareInterface>
    </joint>
  </transmission>
  <gazebo reference="rh_mfmiddle">
    <sensor name="rh_mfmiddle_contact" type="contact">
      <always_on>1</always_on>
      <update_rate>1000.0</update_rate>
      <contact>
        <collision>rh_mfmiddle_collision</collision>
        <topic>rh_mfmiddle_collision</topic>
      </contact>
      <plugin filename="libgazebo_ros_bumper.so" name="rh_mfproximal_gazebo_ros_bumper_controller">
        <alwaysOn>true</alwaysOn>
        <frameName>rh_mfmiddle</frameName>
        <updateRate>100.0</updateRate>
        <bumperTopicName>contacts/rh_mf/middle</bumperTopicName>
      </plugin>
    </sensor>
    <selfCollide>true</selfCollide>
  </gazebo>
  <link name="rh_mfdistal">
    <inertial>
      <mass value="0.012"/>
      <origin xyz="0 0 0.012"/>
      <inertia ixx="0.00000094" ixy="0.0" ixz="0.0" iyy="0.0000011" iyz="0.0" izz="0.00000053"/>
    </inertial>
    <visual>
      <origin rpy="0 0 0" xyz="0 0 0"/>
      <geometry name="rh_mfdistal_visual">
        <mesh filename="package://sr_description/meshes/hand/F1.dae" scale="0.001 0.001 0.001"/>
      </geometry>
    </visual>
    <collision>
      <origin rpy="0 0 0" xyz="0 0 0"/>
      <geometry name="rh_mfdistal_collision_geom">
        <mesh filename="package://sr_description/meshes/hand/F1.dae" scale="0.001 0.001 0.001"/>
      </geometry>
    </collision>
  </link>
  <joint name="rh_MFJ1" type="revolute">
    <parent link="rh_mfmiddle"/>
    <child link="rh_mfdistal"/>
    <origin rpy="0 0 0" xyz="0 0 0.025"/>
    <axis xyz="1 0 0"/>
    <limit effort="4" lower="0" upper="1.57079632679" velocity="2.0"/>
    <dynamics damping="0.1"/>
  </joint>
  <gazebo reference="rh_MFJ1">
    <provideFeedback>1</provideFeedback>
    <implicitSpringDamper>1</implicitSpringDamper>
  </gazebo>
  <link name="rh_mftip">
    <inertial>
      <mass value="0.001"/>
      <inertia ixx="0.0" ixy="0.0" ixz="0.0" iyy="0.0" iyz="0.0" izz="0.0"/>
    </inertial>
  </link>
  <joint name="rh_MFtip" type="fixed">
    <parent link="rh_mfdistal"/>
    <child link="rh_mftip"/>
    <origin rpy="0 0 0" xyz="0 0 0.026"/>
  </joint>
  <transmission name="rh_mfdistal_transmission">
    <type>sr_mechanism_model/SimpleTransmission</type>
  <actuator name="rh_MFJ1">
    <mechanicalReduction>1</mechanicalReduction>
  </actuator>
  <joint name="rh_MFJ1">
    <hardwareInterface>hardware_interface/EffortJointInterface</hardwareInterface>
  </joint>
  </transmission>
  <gazebo reference="rh_mfdistal">
    <sensor name="rh_mfdistal_contact" type="contact">
      <always_on>1</always_on>
      <update_rate>1000.0</update_rate>
      <contact>
        <collision>rh_mfdistal_collision</collision>
        <topic>rh_mfdistal_collision</topic>
      </contact>
      <plugin filename="libgazebo_ros_bumper.so" name="rh_mfdistal_gazebo_ros_bumper_controller">
        <alwaysOn>true</alwaysOn>
        <frameName>rh_mfdistal</frameName>
        <updateRate>100.0</updateRate>
        <bumperTopicName>contacts/rh_mf/distal</bumperTopicName>
      </plugin>
    </sensor>
    <mu1 value="500.0"/>
    <mu2 value="500.0"/>
    <kp value="10000000.0"/>
    <kd value="1.0"/>
    <selfCollide>true</selfCollide>
  </gazebo>
  <link name="rh_rfknuckle">
    <inertial>
      <origin rpy="0 0 0" xyz="0 0 0"/>
      <mass value="0.008"/>
      <inertia ixx="0.00000026" ixy="0.0" ixz="0.0" iyy="0.00000026" iyz="0.0" izz="0.00000032"/>
    </inertial>
    <visual>
      <origin rpy="0 0 0" xyz="0 0 0.0005"/>
      <geometry name="rh_rfknuckle_visual">
        <mesh filename="package://sr_description/meshes/hand/knuckle.dae" scale="0.001 0.001 0.001"/>
      </geometry>
      <material name="LightGrey"/>
    </visual>
    <collision>
      <origin rpy="0 1.5708 0" xyz="0 0 0"/>
      <geometry name="rh_rfknuckle_collision_geom">
        <cylinder length="0.014" radius="0.007"/>
      </geometry>
    </collision>
  </link>
  <joint name="rh_RFJ4" type="revolute">
    <parent link="rh_palm"/>
    <child link="rh_rfknuckle"/>
    <origin rpy="0 0 0" xyz="-0.011 0 0.095"/>
    <axis xyz="0 1.0 0"/>
    <limit effort="2" lower="-0.349065850399" upper="0.349065850399" velocity="2.0"/>
    <dynamics damping="0.1"/>
  </joint>
  <gazebo reference="rh_RFJ4">
    <provideFeedback>1</provideFeedback>
    <implicitSpringDamper>1</implicitSpringDamper>
  </gazebo>
  <transmission name="rh_rfknuckle_transmission">
    <type>sr_mechanism_model/SimpleTransmission</type>
    <actuator name="rh_RFJ4">
      <mechanicalReduction>1</mechanicalReduction>
    </actuator>
    <joint name="rh_RFJ4">
      <hardwareInterface>hardware_interface/EffortJointInterface</hardwareInterface>
    </joint>
  </transmission>
  <gazebo reference="rh_rfknuckle">
    <sensor name="rh_rfknuckle_contact" type="contact">
      <always_on>1</always_on>
      <update_rate>1000.0</update_rate>
      <contact>
        <collision>rh_rfknuckle_collision</collision>
        <topic>rh_rfknuckle_collision</topic>
      </contact>
      <plugin filename="libgazebo_ros_bumper.so" name="rh_rfknuckle_gazebo_ros_bumper_controller">
        <alwaysOn>true</alwaysOn>
        <frameName>rh_rfknuckle</frameName>
        <updateRate>100.0</updateRate>
        <bumperTopicName>contacts/rh_rf/knuckle</bumperTopicName>
      </plugin>
    </sensor>
    <material>Gazebo/Grey</material>
  </gazebo>
  <link name="rh_rfproximal">
    <inertial>
      <mass value="0.030"/>
      <origin xyz="0 0 0.0225"/>
      <inertia ixx="0.0000098" ixy="0.0" ixz="0.0" iyy="0.00001" iyz="0.0" izz="0.0000018"/>
    </inertial>
    <visual>
      <origin rpy="0 0 0" xyz="0 0 0"/>
      <geometry name="rh_rfproximal_visual">
        <mesh filename="package://sr_description/meshes/hand/F3.dae" scale="0.001 0.001 0.001"/>
      </geometry>
      <material name="Grey"/>
    </visual>
    <collision>
      <origin rpy="0 0 0" xyz="0 0 0.025"/>
      <geometry name="rh_rfproximal_collision_geom">
        <cylinder length="0.040" radius="0.007"/>
      </geometry>
    </collision>
  </link>
  <joint name="rh_RFJ3" type="revolute">
    <parent link="rh_rfknuckle"/>
    <child link="rh_rfproximal"/>
    <origin rpy="0 0 0" xyz="0 0 0"/>
    <axis xyz="1 0 0"/>
    <limit effort="2" lower="-0.261799387799" upper="1.57079632679" velocity="2.0"/>
    <dynamics damping="0.1"/>
  </joint>
  <gazebo reference="rh_RFJ3">
    <provideFeedback>1</provideFeedback>
    <implicitSpringDamper>1</implicitSpringDamper>
  </gazebo>
  <transmission name="rh_rfproximal_transmission">
    <type>sr_mechanism_model/SimpleTransmission</type>
    <actuator name="rh_RFJ3">
      <mechanicalReduction>1</mechanicalReduction>
    </actuator>
    <joint name="rh_RFJ3">
      <hardwareInterface>hardware_interface/EffortJointInterface</hardwareInterface>
    </joint>
  </transmission>
  <gazebo reference="rh_rfproximal">
    <sensor name="rh_rfproximal_contact" type="contact">
      <always_on>1</always_on>
      <update_rate>1000.0</update_rate>
      <contact>
        <collision>rh_rfproximal_collision</collision>
        <topic>rh_rfproximal_collision</topic>
      </contact>
      <plugin filename="libgazebo_ros_bumper.so" name="rh_rfproximal_gazebo_ros_bumper_controller">
        <alwaysOn>true</alwaysOn>
        <frameName>rh_rfproximal</frameName>
        <updateRate>100.0</updateRate>
        <bumperTopicName>contacts/rh_rf/proximal</bumperTopicName>
      </plugin>
    </sensor>
    <selfCollide>true</selfCollide>
  </gazebo>
  <link name="rh_rfmiddle">
    <inertial>
      <origin rpy="0 0 0" xyz="0 0 0.0125"/>
      <mass value="0.017"/>
      <inertia ixx="0.0000026" ixy="0.0" ixz="0.0" iyy="0.0000027" iyz="0.0" izz="0.00000087"/>
    </inertial>
    <visual>
      <origin rpy="0 0 0" xyz="0 0 0"/>
      <geometry name="rh_rfmiddle_visual">
        <mesh filename="package://sr_description/meshes/hand/F2.dae" scale="0.001 0.001 0.001"/>
      </geometry>
      <material name="Grey"/>
    </visual>
    <collision>
      <origin rpy="0 0 0" xyz="0 0 0.0125"/>
      <geometry name="rh_rfmiddle_collision_geom">
        <cylinder length="0.025" radius="0.007"/>
      </geometry>
    </collision>
    <collision>
      <origin rpy="0 0 0" xyz="0 0 0.0"/>
      <geometry>
        <sphere radius="0.007"/>
      </geometry>
    </collision>
    <collision>
      <origin rpy="0 0 0" xyz="0 0 0.025"/>
      <geometry>
        <sphere radius="0.007"/>
      </geometry>
    </collision>
  </link>
  <joint name="rh_RFJ2" type="revolute">
    <parent link="rh_rfproximal"/>
    <child link="rh_rfmiddle"/>
    <origin rpy="0 0 0" xyz="0 0 0.045"/>
    <axis xyz="1 0 0"/>
    <limit effort="4" lower="0" upper="1.57079632679" velocity="2.0"/>
    <dynamics damping="0.1"/>
  </joint>
  <gazebo reference="rh_RFJ2">
    <provideFeedback>1</provideFeedback>
    <implicitSpringDamper>1</implicitSpringDamper>
  </gazebo>
  <transmission name="rh_rfmiddle_transmission">
    <type>sr_mechanism_model/SimpleTransmission</type>
    <actuator name="rh_RFJ2">
      <mechanicalReduction>1</mechanicalReduction>
    </actuator>
    <joint name="rh_RFJ2">
      <hardwareInterface>hardware_interface/EffortJointInterface</hardwareInterface>
    </joint>
  </transmission>
  <gazebo reference="rh_rfmiddle">
    <sensor name="rh_rfmiddle_contact" type="contact">
      <always_on>1</always_on>
      <update_rate>1000.0</update_rate>
      <contact>
        <collision>rh_rfmiddle_collision</collision>
        <topic>rh_rfmiddle_collision</topic>
      </contact>
      <plugin filename="libgazebo_ros_bumper.so" name="rh_rfproximal_gazebo_ros_bumper_controller">
        <alwaysOn>true</alwaysOn>
        <frameName>rh_rfmiddle</frameName>
        <updateRate>100.0</updateRate>
        <bumperTopicName>contacts/rh_rf/middle</bumperTopicName>
      </plugin>
    </sensor>
    <selfCollide>true</selfCollide>
  </gazebo>
  <link name="rh_rfdistal">
    <inertial>
      <mass value="0.012"/>
      <origin xyz="0 0 0.012"/>
      <inertia ixx="0.00000094" ixy="0.0" ixz="0.0" iyy="0.0000011" iyz="0.0" izz="0.00000053"/>
    </inertial>
    <visual>
      <origin rpy="0 0 0" xyz="0 0 0"/>
      <geometry name="rh_rfdistal_visual">
        <mesh filename="package://sr_description/meshes/hand/F1.dae" scale="0.001 0.001 0.001"/>
      </geometry>
    </visual>
    <collision>
      <origin rpy="0 0 0" xyz="0 0 0"/>
      <geometry name="rh_rfdistal_collision_geom">
        <mesh filename="package://sr_description/meshes/hand/F1.dae" scale="0.001 0.001 0.001"/>
      </geometry>
    </collision>
  </link>
  <joint name="rh_RFJ1" type="revolute">
    <parent link="rh_rfmiddle"/>
    <child link="rh_rfdistal"/>
    <origin rpy="0 0 0" xyz="0 0 0.025"/>
    <axis xyz="1 0 0"/>
    <limit effort="4" lower="0" upper="1.57079632679" velocity="2.0"/>
    <dynamics damping="0.1"/>
  </joint>
  <gazebo reference="rh_RFJ1">
    <provideFeedback>1</provideFeedback>
    <implicitSpringDamper>1</implicitSpringDamper>
  </gazebo>
  <link name="rh_rftip">
    <inertial>
      <mass value="0.001"/>
      <inertia ixx="0.0" ixy="0.0" ixz="0.0" iyy="0.0" iyz="0.0" izz="0.0"/>
    </inertial>
  </link>
  <joint name="rh_RFtip" type="fixed">
    <parent link="rh_rfdistal"/>
    <child link="rh_rftip"/>
    <origin rpy="0 0 0" xyz="0 0 0.026"/>
  </joint>
  <transmission name="rh_rfdistal_transmission">
    <type>sr_mechanism_model/SimpleTransmission</type>
    <actuator name="rh_RFJ1">
      <mechanicalReduction>1</mechanicalReduction>
    </actuator>
    <joint name="rh_RFJ1">
      <hardwareInterface>hardware_interface/EffortJointInterface</hardwareInterface>
    </joint>
  </transmission>
  <gazebo reference="rh_rfdistal">
    <sensor name="rh_rfdistal_contact" type="contact">
      <always_on>1</always_on>
      <update_rate>1000.0</update_rate>
      <contact>
        <collision>rh_rfdistal_collision</collision>
        <topic>rh_rfdistal_collision</topic>
      </contact>
      <plugin filename="libgazebo_ros_bumper.so" name="rh_rfdistal_gazebo_ros_bumper_controller">
        <alwaysOn>true</alwaysOn>
        <frameName>rh_rfdistal</frameName>
        <updateRate>100.0</updateRate>
        <bumperTopicName>contacts/rh_rf/distal</bumperTopicName>
      </plugin>
    </sensor>
    <mu1 value="500.0"/>
    <mu2 value="500.0"/>
    <kp value="10000000.0"/>
    <kd value="1.0"/>
    <selfCollide>true</selfCollide>
  </gazebo>
  <link name="rh_lfmetacarpal">
    <inertial>
      <origin rpy="0 0 0" xyz="0 0 0.04"/>
      <mass value="0.030"/>
      <inertia ixx="0.0000145" ixy="0.0" ixz="0.0" iyy="0.00001638" iyz="0.0" izz="0.000004272"/>
    </inertial>
    <visual>
      <origin rpy="0 0 0" xyz="0 0 0"/>
      <geometry name="rh_lfmetacarpal_visual">
        <mesh filename="package://sr_description/meshes/hand/lfmetacarpal.dae" scale="0.001 0.001 0.001"/>
      </geometry>
      <material name="Grey"/>
    </visual>
    <collision>
      <origin rpy="0 0 0" xyz="0 0 0.038"/>
      <geometry name="rh_lfmetacarpal_collision_geom">
        <box size="0.018 0.024 0.040"/>
      </geometry>
    </collision>
  </link>
  <joint name="rh_LFJ5" type="revolute">
    <parent link="rh_palm"/>
    <child link="rh_lfmetacarpal"/>
    <origin rpy="0 0 0" xyz="-0.033 0 0.02071"/>
    <axis xyz="0.573576436 0 0.819152044"/>
    <limit effort="4" lower="0" upper="0.785398163397" velocity="2.0"/>
    <dynamics damping="0.1"/>
  </joint>
  <gazebo reference="rh_LFJ5">
    <provideFeedback>1</provideFeedback>
    <implicitSpringDamper>1</implicitSpringDamper>
  </gazebo>
  <transmission name="rh_lfmetacarpal_transmission">
    <type>sr_mechanism_model/SimpleTransmission</type>
    <actuator name="rh_LFJ5">
      <mechanicalReduction>1</mechanicalReduction>
    </actuator>
    <joint name="rh_LFJ5">
      <hardwareInterface>hardware_interface/EffortJointInterface</hardwareInterface>
    </joint>
  </transmission>
  <gazebo reference="rh_lfmetacarpal">
    <sensor name="rh_lfmetacarpal_contact" type="contact">
      <always_on>1</always_on>
      <update_rate>1000.0</update_rate>
      <contact>
        <collision>rh_lfmetacarpal_collision</collision>
        <topic>rh_lfmetacarpal_collision</topic>
      </contact>
      <plugin filename="libgazebo_ros_bumper.so" name="rh_lfmetacarpal_gazebo_ros_bumper_controller">
        <alwaysOn>true</alwaysOn>
        <frameName>rh_lfmetacarpal</frameName>
        <updateRate>100.0</updateRate>
        <bumperTopicName>contacts/rh_lf/metacarpal</bumperTopicName>
      </plugin>
    </sensor>
    <selfCollide>true</selfCollide>
  </gazebo>
  <link name="rh_lfknuckle">
    <inertial>
      <origin rpy="0 0 0" xyz="0 0 0"/>
      <mass value="0.008"/>
      <inertia ixx="0.00000026" ixy="0.0" ixz="0.0" iyy="0.00000026" iyz="0.0" izz="0.00000032"/>
    </inertial>
    <visual>
      <origin rpy="0 0 0" xyz="0 0 0.0005"/>
      <geometry name="rh_lfknuckle_visual">
        <mesh filename="package://sr_description/meshes/hand/knuckle.dae" scale="0.001 0.001 0.001"/>
      </geometry>
      <material name="LightGrey"/>
    </visual>
    <collision>
      <origin rpy="0 1.5708 0" xyz="0 0 0"/>
      <geometry name="rh_lfknuckle_collision_geom">
        <cylinder length="0.014" radius="0.007"/>
      </geometry>
    </collision>
  </link>
  <joint name="rh_LFJ4" type="revolute">
    <parent link="rh_lfmetacarpal"/>
    <child link="rh_lfknuckle"/>
    <origin rpy="0 0 0" xyz="0 0 0.06579"/>
    <axis xyz="0 1.0 0"/>
    <limit effort="2" lower="-0.349065850399" upper="0.349065850399" velocity="2.0"/>
    <dynamics damping="0.1"/>
  </joint>
  <gazebo reference="rh_LFJ4">
    <provideFeedback>1</provideFeedback>
    <implicitSpringDamper>1</implicitSpringDamper>
  </gazebo>
  <transmission name="rh_lfknuckle_transmission">
    <type>sr_mechanism_model/SimpleTransmission</type>
    <actuator name="rh_LFJ4">
      <mechanicalReduction>1</mechanicalReduction>
    </actuator>
    <joint name="rh_LFJ4">
      <hardwareInterface>hardware_interface/EffortJointInterface</hardwareInterface>
    </joint>
  </transmission>
  <gazebo reference="rh_lfknuckle">
    <sensor name="rh_lfknuckle_contact" type="contact">
      <always_on>1</always_on>
      <update_rate>1000.0</update_rate>
      <contact>
        <collision>rh_lfknuckle_collision</collision>
        <topic>rh_lfknuckle_collision</topic>
      </contact>
      <plugin filename="libgazebo_ros_bumper.so" name="rh_lfknuckle_gazebo_ros_bumper_controller">
        <alwaysOn>true</alwaysOn>
        <frameName>rh_lfknuckle</frameName>
        <updateRate>100.0</updateRate>
        <bumperTopicName>contacts/rh_lf/knuckle</bumperTopicName>
      </plugin>
    </sensor>
    <material>Gazebo/Grey</material>
  </gazebo>
  <link name="rh_lfproximal">
    <inertial>
      <mass value="0.030"/>
      <origin xyz="0 0 0.0225"/>
      <inertia ixx="0.0000098" ixy="0.0" ixz="0.0" iyy="0.00001" iyz="0.0" izz="0.0000018"/>
    </inertial>
    <visual>
      <origin rpy="0 0 0" xyz="0 0 0"/>
      <geometry name="rh_lfproximal_visual">
        <mesh filename="package://sr_description/meshes/hand/F3.dae" scale="0.001 0.001 0.001"/>
      </geometry>
      <material name="Grey"/>
    </visual>
    <collision>
      <origin rpy="0 0 0" xyz="0 0 0.025"/>
      <geometry name="rh_lfproximal_collision_geom">
        <cylinder length="0.040" radius="0.007"/>
      </geometry>
    </collision>
  </link>
  <joint name="rh_LFJ3" type="revolute">
    <parent link="rh_lfknuckle"/>
    <child link="rh_lfproximal"/>
    <origin rpy="0 0 0" xyz="0 0 0"/>
    <axis xyz="1 0 0"/>
    <limit effort="2" lower="-0.261799387799" upper="1.57079632679" velocity="2.0"/>
    <dynamics damping="0.1"/>
  </joint>
  <gazebo reference="rh_LFJ3">
    <provideFeedback>1</provideFeedback>
    <implicitSpringDamper>1</implicitSpringDamper>
  </gazebo>
  <transmission name="rh_lfproximal_transmission">
    <type>sr_mechanism_model/SimpleTransmission</type>
    <actuator name="rh_LFJ3">
      <mechanicalReduction>1</mechanicalReduction>
    </actuator>
    <joint name="rh_LFJ3">
      <hardwareInterface>hardware_interface/EffortJointInterface</hardwareInterface>
    </joint>
  </transmission>
  <gazebo reference="rh_lfproximal">
    <sensor name="rh_lfproximal_contact" type="contact">
      <always_on>1</always_on>
      <update_rate>1000.0</update_rate>
      <contact>
        <collision>rh_lfproximal_collision</collision>
        <topic>rh_lfproximal_collision</topic>
      </contact>
      <plugin filename="libgazebo_ros_bumper.so" name="rh_lfproximal_gazebo_ros_bumper_controller">
        <alwaysOn>true</alwaysOn>
        <frameName>rh_lfproximal</frameName>
        <updateRate>100.0</updateRate>
        <bumperTopicName>contacts/rh_lf/proximal</bumperTopicName>
      </plugin>
    </sensor>
    <selfCollide>true</selfCollide>
  </gazebo>
  <link name="rh_lfmiddle">
    <inertial>
      <origin rpy="0 0 0" xyz="0 0 0.0125"/>
      <mass value="0.017"/>
      <inertia ixx="0.0000026" ixy="0.0" ixz="0.0" iyy="0.0000027" iyz="0.0" izz="0.00000087"/>
    </inertial>
    <visual>
      <origin rpy="0 0 0" xyz="0 0 0"/>
      <geometry name="rh_lfmiddle_visual">
        <mesh filename="package://sr_description/meshes/hand/F2.dae" scale="0.001 0.001 0.001"/>
      </geometry>
      <material name="Grey"/>
    </visual>
    <collision>
      <origin rpy="0 0 0" xyz="0 0 0.0125"/>
      <geometry name="rh_lfmiddle_collision_geom">
        <cylinder length="0.025" radius="0.007"/>
      </geometry>
    </collision>
    <collision>
      <origin rpy="0 0 0" xyz="0 0 0.0"/>
      <geometry>
        <sphere radius="0.007"/>
      </geometry>
    </collision>
    <collision>
      <origin rpy="0 0 0" xyz="0 0 0.025"/>
      <geometry>
        <sphere radius="0.007"/>
      </geometry>
    </collision>
  </link>
  <joint name="rh_LFJ2" type="revolute">
    <parent link="rh_lfproximal"/>
    <child link="rh_lfmiddle"/>
    <origin rpy="0 0 0" xyz="0 0 0.045"/>
    <axis xyz="1 0 0"/>
    <limit effort="4" lower="0" upper="1.57079632679" velocity="2.0"/>
    <dynamics damping="0.1"/>
  </joint>
  <gazebo reference="rh_LFJ2">
    <provideFeedback>1</provideFeedback>
    <implicitSpringDamper>1</implicitSpringDamper>
  </gazebo>
  <transmission name="rh_lfmiddle_transmission">
    <type>sr_mechanism_model/SimpleTransmission</type>
    <actuator name="rh_LFJ2">
      <mechanicalReduction>1</mechanicalReduction>
    </actuator>
    <joint name="rh_LFJ2">
      <hardwareInterface>hardware_interface/EffortJointInterface</hardwareInterface>
    </joint>
  </transmission>
  <gazebo reference="rh_lfmiddle">
    <sensor name="rh_lfmiddle_contact" type="contact">
      <always_on>1</always_on>
      <update_rate>1000.0</update_rate>
      <contact>
        <collision>rh_lfmiddle_collision</collision>
        <topic>rh_lfmiddle_collision</topic>
      </contact>
      <plugin filename="libgazebo_ros_bumper.so" name="rh_lfproximal_gazebo_ros_bumper_controller">
        <alwaysOn>true</alwaysOn>
        <frameName>rh_lfmiddle</frameName>
        <updateRate>100.0</updateRate>
        <bumperTopicName>contacts/rh_lf/middle</bumperTopicName>
      </plugin>
    </sensor>
    <selfCollide>true</selfCollide>
  </gazebo>
  <link name="rh_lfdistal">
    <inertial>
      <mass value="0.012"/>
      <origin xyz="0 0 0.012"/>
      <inertia ixx="0.00000094" ixy="0.0" ixz="0.0" iyy="0.0000011" iyz="0.0" izz="0.00000053"/>
    </inertial>
    <visual>
      <origin rpy="0 0 0" xyz="0 0 0"/>
      <geometry name="rh_lfdistal_visual">
        <mesh filename="package://sr_description/meshes/hand/F1.dae" scale="0.001 0.001 0.001"/>
      </geometry>
    </visual>
    <collision>
      <origin rpy="0 0 0" xyz="0 0 0"/>
      <geometry name="rh_lfdistal_collision_geom">
        <mesh filename="package://sr_description/meshes/hand/F1.dae" scale="0.001 0.001 0.001"/>
      </geometry>
    </collision>
  </link>
  <joint name="rh_LFJ1" type="revolute">
    <parent link="rh_lfmiddle"/>
    <child link="rh_lfdistal"/>
    <origin rpy="0 0 0" xyz="0 0 0.025"/>
    <axis xyz="1 0 0"/>
    <limit effort="4" lower="0" upper="1.57079632679" velocity="2.0"/>
    <dynamics damping="0.1"/>
  </joint>
  <gazebo reference="rh_LFJ1">
    <provideFeedback>1</provideFeedback>
    <implicitSpringDamper>1</implicitSpringDamper>
  </gazebo>
  <link name="rh_lftip">
    <inertial>
      <mass value="0.001"/>
      <inertia ixx="0.0" ixy="0.0" ixz="0.0" iyy="0.0" iyz="0.0" izz="0.0"/>
    </inertial>
  </link>
  <joint name="rh_LFtip" type="fixed">
    <parent link="rh_lfdistal"/>
    <child link="rh_lftip"/>
    <origin rpy="0 0 0" xyz="0 0 0.026"/>
  </joint>
  <transmission name="rh_lfdistal_transmission">
    <type>sr_mechanism_model/SimpleTransmission</type>
    <actuator name="rh_LFJ1">
      <mechanicalReduction>1</mechanicalReduction>
    </actuator>
    <joint name="rh_LFJ1">
      <hardwareInterface>hardware_interface/EffortJointInterface</hardwareInterface>
    </joint>
  </transmission>
  <gazebo reference="rh_lfdistal">
    <sensor name="rh_lfdistal_contact" type="contact">
      <always_on>1</always_on>
      <update_rate>1000.0</update_rate>
      <contact>
        <collision>rh_lfdistal_collision</collision>
        <topic>rh_lfdistal_collision</topic>
      </contact>
      <plugin filename="libgazebo_ros_bumper.so" name="rh_lfdistal_gazebo_ros_bumper_controller">
        <alwaysOn>true</alwaysOn>
        <frameName>rh_lfdistal</frameName>
        <updateRate>100.0</updateRate>
        <bumperTopicName>contacts/rh_lf/distal</bumperTopicName>
      </plugin>
    </sensor>
    <mu1 value="500.0"/>
    <mu2 value="500.0"/>
    <kp value="10000000.0"/>
    <kd value="1.0"/>
    <selfCollide>true</selfCollide>
  </gazebo>
  <link name="rh_thbase">
    <inertial>
      <mass value="0.010"/>
      <origin rpy="0 0 0" xyz="0 0 0"/>
      <inertia ixx="0.00000016" ixy="0.0" ixz="0.0" iyy="0.00000016" iyz="0.0" izz="0.00000016"/>
    </inertial>
    <visual>
      <origin rpy="0 0 0" xyz="0 0 0"/>
      <geometry name="rh_thbase_visual">
        <box size="0.001 0.001 0.001"/>
      </geometry>
      <material name="shadow_thbase_material">
        <color rgba="0.5 0.5 0.5 1.0"/>
      </material>
    </visual>
    <collision>
      <origin rpy="0 0 0" xyz="0 0 0"/>
      <geometry name="rh_thbase_collision_geom">
        <sphere radius="0.011"/>
      </geometry>
    </collision>
  </link>
  <joint name="rh_THJ5" type="revolute">
    <parent link="rh_palm"/>
    <child link="rh_thbase"/>
    <origin rpy="0 0.785398163397 0.0" xyz="0.034 -0.0085 0.029"/>
    <axis xyz="0 0 -1.0"/>
    <limit effort="5.0" lower="-1.0471975512" upper="1.0471975512" velocity="4.0"/>
    <dynamics damping="0.2"/>
  </joint>
  <gazebo reference="rh_THJ5">
    <provideFeedback>1</provideFeedback>
    <implicitSpringDamper>1</implicitSpringDamper>
  </gazebo>
  <transmission name="rh_thbase_transmission">
    <type>sr_mechanism_model/SimpleTransmission</type>
    <actuator name="rh_THJ5">
      <mechanicalReduction>1</mechanicalReduction>
    </actuator>
    <joint name="rh_THJ5">
      <hardwareInterface>hardware_interface/EffortJointInterface</hardwareInterface>
    </joint>
  </transmission>
  <gazebo reference="rh_thbase">
    <sensor name="rh_thbase_contact" type="contact">
      <always_on>1</always_on>
      <update_rate>1000.0</update_rate>
      <contact>
        <collision>rh_thbase_collision</collision>
        <topic>rh_thbase_collision</topic>
      </contact>
      <plugin filename="libgazebo_ros_bumper.so" name="rh_thbase_gazebo_ros_bumper_controller">
        <alwaysOn>true</alwaysOn>
        <frameName>rh_thbase</frameName>
        <updateRate>100.0</updateRate>
        <bumperTopicName>contacts/rh_th/base</bumperTopicName>
      </plugin>
    </sensor>
    <selfCollide>false</selfCollide>
  </gazebo>
  <link name="rh_thproximal">
    <inertial>
      <mass value="0.040"/>
      <origin rpy="0 0 0" xyz="0 0 0.019"/>
      <inertia ixx="0.0000136" ixy="0.0" ixz="0.0" iyy="0.0000136" iyz="0.0" izz="0.00000313"/>
    </inertial>
    <visual>
      <origin rpy="0 0 0" xyz="0 0 0"/>
      <geometry name="rh_thproximal_visual">
        <mesh filename="package://sr_description/meshes/hand/TH3_z.dae" scale="0.001 0.001 0.001"/>
      </geometry>
      <material name="shadow_thproximal_material">
        <color rgba="0.2 0.2 0.2 1.0"/>
      </material>
    </visual>
    <collision>
      <origin rpy="0 0 0" xyz="0 0 0.020"/>
      <geometry name="rh_thproximal_collision_geom">
        <cylinder length="0.018" radius="0.012"/>
      </geometry>
    </collision>
  </link>
  <joint name="rh_THJ4" type="revolute">
    <parent link="rh_thbase"/>
    <child link="rh_thproximal"/>
    <origin rpy="0 0 0" xyz="0 0 0"/>
    <axis xyz="1.0 0 0"/>
    <limit effort="3" lower="0.0" upper="1.2217304764" velocity="4.0"/>
    <dynamics damping="0.2"/>
  </joint>
  <gazebo reference="rh_THJ4">
    <provideFeedback>1</provideFeedback>
    <implicitSpringDamper>1</implicitSpringDamper>
  </gazebo>
  <transmission name="rh_thproximal_transmission">
    <type>sr_mechanism_model/SimpleTransmission</type>
    <actuator name="rh_THJ4">
      <mechanicalReduction>1</mechanicalReduction>
    </actuator>
    <joint name="rh_THJ4">
      <hardwareInterface>hardware_interface/EffortJointInterface</hardwareInterface>
    </joint>
  </transmission>
  <gazebo reference="rh_thproximal">
    <sensor name="rh_thproximal_contact" type="contact">
      <always_on>1</always_on>
      <update_rate>1000.0</update_rate>
      <contact>
        <collision>rh_thproximal_collision</collision>
        <topic>rh_thproximal_collision</topic>
      </contact>
      <plugin filename="libgazebo_ros_bumper.so" name="rh_thproximal_gazebo_ros_bumper_controller">
        <alwaysOn>true</alwaysOn>
        <frameName>rh_thproximal</frameName>
        <updateRate>100.0</updateRate>
        <bumperTopicName>contacts/rh_th/proximal</bumperTopicName>
      </plugin>
    </sensor>
    <selfCollide>false</selfCollide>
  </gazebo>
  <link name="rh_thhub">
    <inertial>
      <mass value="0.005"/>
      <origin rpy="0 0 0" xyz="0 0 0"/>
      <inertia ixx="0.000001" ixy="0.0" ixz="0.0" iyy="0.000001" iyz="0.0" izz="0.0000003"/>
    </inertial>
    <visual>
      <origin rpy="0 0 0" xyz="0 0 0"/>
      <geometry name="rh_thhub_visual">
        <box size="0.001 0.001 0.001"/>
      </geometry>
      <material name="shadow_thhub_material">
        <color rgba="0.7 0.7 0.7 1.0"/>
      </material>
    </visual>
    <collision>
      <origin rpy="0 0 0" xyz="0 0 0"/>
      <geometry name="rh_thhub_collision_geom">
        <sphere radius="0.010"/>
      </geometry>
    </collision>
  </link>
  <joint name="rh_THJ3" type="revolute">
    <parent link="rh_thproximal"/>
    <child link="rh_thhub"/>
    <origin rpy="0 0 0" xyz="0 0 0.038"/>
    <axis xyz="1 0 0"/>
    <limit effort="2.0" lower="-0.209439510239" upper="0.209439510239" velocity="4.0"/>
    <dynamics damping="0.2"/>
  </joint>
  <gazebo reference="rh_THJ3">
    <provideFeedback>1</provideFeedback>
    <implicitSpringDamper>1</implicitSpringDamper>
  </gazebo>
  <transmission name="rh_thhub_transmission">
    <type>sr_mechanism_model/SimpleTransmission</type>
    <actuator name="rh_THJ3">
      <mechanicalReduction>1</mechanicalReduction>
    </actuator>
    <joint name="rh_THJ3">
      <hardwareInterface>hardware_interface/EffortJointInterface</hardwareInterface>
    </joint>
  </transmission>
  <gazebo reference="rh_thhub">
    <sensor name="rh_thhub_contact" type="contact">
      <always_on>1</always_on>
      <update_rate>1000.0</update_rate>
      <contact>
        <collision>rh_thhub_collision</collision>
        <topic>rh_thhub_collision</topic>
      </contact>
      <plugin filename="libgazebo_ros_bumper.so" name="rh_thhub_gazebo_ros_bumper_controller">
        <alwaysOn>true</alwaysOn>
        <frameName>rh_thhub</frameName>
        <updateRate>100.0</updateRate>
        <bumperTopicName>contacts/rh_th/hub</bumperTopicName>
      </plugin>
    </sensor>
    <selfCollide>true</selfCollide>
  </gazebo>
  <link name="rh_thmiddle">
    <inertial>
      <mass value="0.020"/>
      <origin rpy="0 0 0" xyz="0 0 0.016"/>
      <inertia ixx="0.0000051" ixy="0.0" ixz="0.0" iyy="0.0000051" iyz="0.0" izz="0.00000121"/>
    </inertial>
    <visual>
      <origin rpy="0 0 0" xyz="0 0 0"/>
      <geometry name="rh_thmiddle_visual">
        <mesh filename="package://sr_description/meshes/hand/TH2_z.dae" scale="0.001 0.001 0.001"/>
      </geometry>
      <material name="shadow_thmiddle_material">
        <color rgba="0.2 0.2 0.2 1.0"/>
      </material>
    </visual>
    <collision>
      <origin rpy="0 0 0" xyz="0 0 0.012"/>
      <geometry name="rh_thmiddle_collision_geom">
        <cylinder length="0.018" radius="0.011"/>
      </geometry>
    </collision>
    <collision>
      <origin rpy="0 0 0" xyz="0 0 0.019"/>
      <geometry>
        <sphere radius="0.011"/>
      </geometry>
    </collision>
  </link>
  <joint name="rh_THJ2" type="revolute">
    <parent link="rh_thhub"/>
    <child link="rh_thmiddle"/>
    <origin rpy="0 0 0" xyz="0 0 0"/>
    <axis xyz="0 -1 0"/>
    <limit effort="2.0" lower="-0.698131700798" upper="0.698131700798" velocity="2.0"/>
    <dynamics damping="0.1"/>
  </joint>
  <gazebo reference="rh_THJ2">
    <provideFeedback>1</provideFeedback>
    <implicitSpringDamper>1</implicitSpringDamper>
  </gazebo>
  <transmission name="rh_thmiddle_transmission">
    <type>sr_mechanism_model/SimpleTransmission</type>
    <actuator name="rh_THJ2">
      <mechanicalReduction>1</mechanicalReduction>
    </actuator>
    <joint name="rh_THJ2">
      <hardwareInterface>hardware_interface/EffortJointInterface</hardwareInterface>
    </joint>
  </transmission>
  <gazebo reference="rh_thmiddle">
    <sensor name="rh_thmiddle_contact" type="contact">
      <always_on>1</always_on>
      <update_rate>1000.0</update_rate>
      <contact>
        <collision>rh_thmiddle_collision</collision>
        <topic>rh_thmiddle_collision</topic>
      </contact>
      <plugin filename="libgazebo_ros_bumper.so" name="rh_thmiddle_gazebo_ros_bumper_controller">
        <alwaysOn>true</alwaysOn>
        <frameName>rh_thmiddle</frameName>
        <updateRate>100.0</updateRate>
        <bumperTopicName>contacts/rh_th/middle</bumperTopicName>
      </plugin>
    </sensor>
    <selfCollide>true</selfCollide>
  </gazebo>
  <link name="rh_thdistal">
    <inertial>
      <mass value="0.016"/>
      <origin rpy="0 0 0" xyz="0 0 0.01375"/>
      <inertia ixx="0.0000021" ixy="0.0" ixz="0.0" iyy="0.0000022" iyz="0.0" izz="0.000001"/>
    </inertial>
    <visual>
      <origin rpy="0 0 0" xyz="0 0 0"/>
      <geometry name="rh_thdistal_visual">
        <mesh filename="package://sr_description/meshes/hand/TH1_z.dae" scale="0.001 0.001 0.001"/>
      </geometry>
      <material name="shadow_thmiddle_material">
        <color rgba="0.2 0.2 0.2 1.0"/>
      </material>
    </visual>
    <collision>
      <origin rpy="0 0 0" xyz="0 0 0"/>
      <geometry name="rh_thmiddle_collision_geom">
        <mesh filename="package://sr_description/meshes/hand/TH1_z.dae" scale="0.001 0.001 0.001"/>
      </geometry>
    </collision>
  </link>
  <joint name="rh_THJ1" type="revolute">
    <parent link="rh_thmiddle"/>
    <child link="rh_thdistal"/>
    <origin rpy="0 0 -1.57079632679" xyz="0 0 0.032"/>
    <axis xyz="1 0 0"/>
    <limit effort="1.0" lower="-0.261799387799" upper="1.57079632679" velocity="4.0"/>
    <dynamics damping="0.2"/>
  </joint>
  <gazebo reference="rh_THJ1">
    <provideFeedback>1</provideFeedback>
    <implicitSpringDamper>1</implicitSpringDamper>
  </gazebo>
  <link name="rh_thtip">
    <inertial>
      <mass value="0.001"/>
      <inertia ixx="0.0" ixy="0.0" ixz="0.0" iyy="0.0" iyz="0.0" izz="0.0"/>
    </inertial>
  </link>
  <joint name="rh_thtip" type="fixed">
    <parent link="rh_thdistal"/>
    <child link="rh_thtip"/>
    <origin rpy="0 0 0" xyz="0 0 0.0275"/>
  </joint>
  <gazebo reference="rh_thdistal">
    <sensor name="rh_thdistal_contact" type="contact">
      <always_on>1</always_on>
      <update_rate>1000.0</update_rate>
      <contact>
        <collision>rh_thdistal_collision</collision>
        <topic>rh_thdistal_collision</topic>
      </contact>
      <plugin filename="libgazebo_ros_bumper.so" name="rh_thdistal_gazebo_ros_bumper_controller">
        <alwaysOn>true</alwaysOn>
        <frameName>rh_thdistal</frameName>
        <updateRate>100.0</updateRate>
        <bumperTopicName>contacts/rh_th/distal</bumperTopicName>
      </plugin>
    </sensor>
    <mu1 value="500.0"/>
    <mu2 value="500.0"/>
    <kp value="10000000.0"/>
    <kd value="1.0"/>
    <selfCollide>true</selfCollide>
  </gazebo>
  <transmission name="rh_thdistal_transmission">
    <type>sr_mechanism_model/SimpleTransmission</type>
    <actuator name="rh_THJ1">
      <mechanicalReduction>1</mechanicalReduction>
    </actuator>
    <joint name="rh_THJ1">
      <hardwareInterface>hardware_interface/EffortJointInterface</hardwareInterface>
    </joint>
  </transmission>
  <joint name="ra_arm_to_hand" type="fixed">
    <parent link="ra_flange"/>
    <child link="rh_forearm"/>
    <origin rpy="1.57079632679 0.0 1.57079632679" xyz="0.012 0.0 0.0"/>
  </joint>
</robot>
